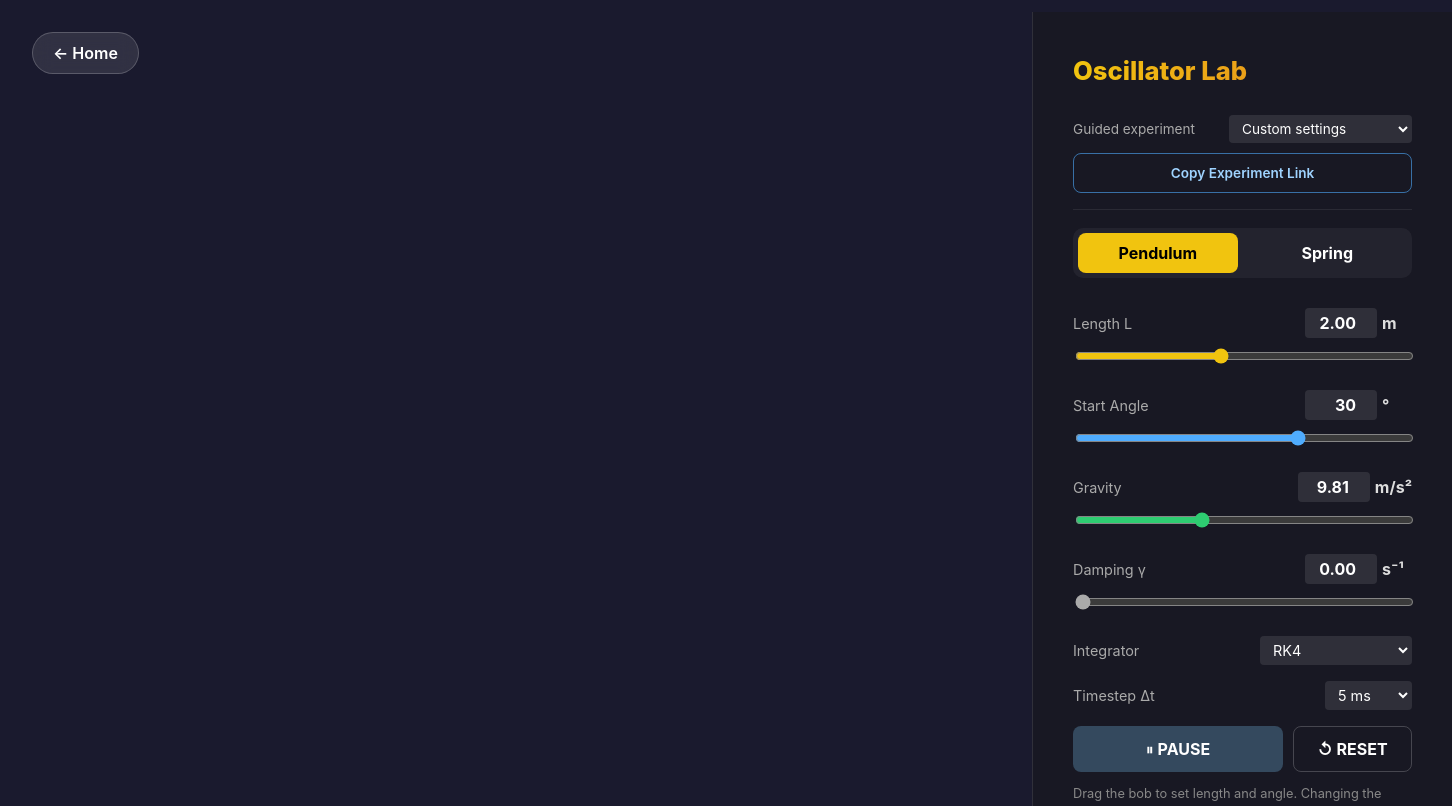
the address bar follows the experiment (real App, hash routing) › choosing a guided experiment loads it and says what to look for
Expected: the heading "Oscillator Lab" is shown, [1073,52,1412,90]
Select "Nonlinear pendulum" in the dropdown labelled "Guided experiment" at [1320, 129], box [1229,115,1412,143]
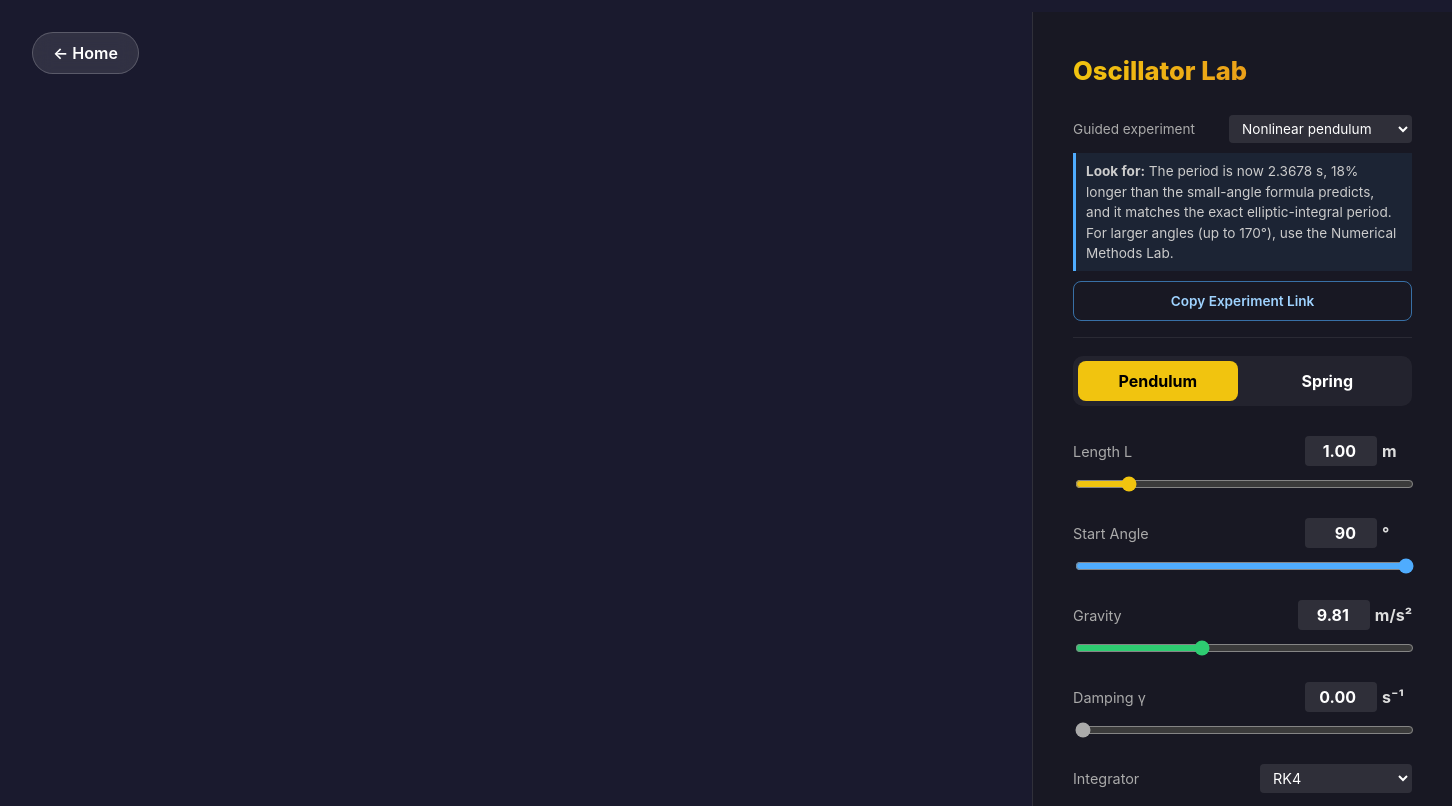
Expected: the text "18% longer than the small-angle formula" is shown, [1086,163,1396,261]
Expected: the dropdown labelled "Guided experiment" shows "Nonlinear pendulum", [1229,115,1412,143]
# Moving a slider makes it a custom experiment again.
Set the slider labelled "Gravity" to "5" at [1137, 648], box [1075,640,1414,656]
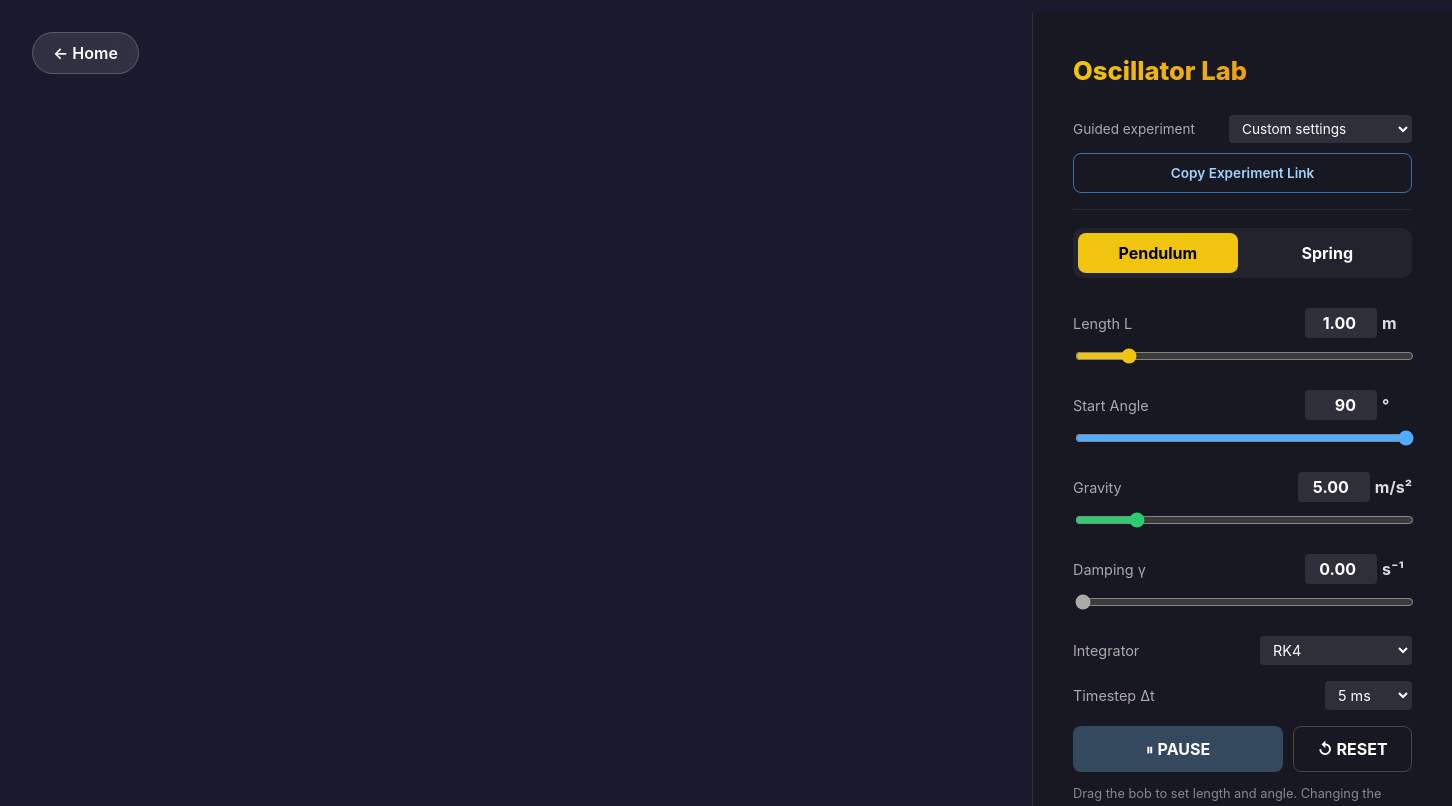
Expected: the dropdown labelled "Guided experiment" shows "Custom settings", [1229,115,1412,143]
